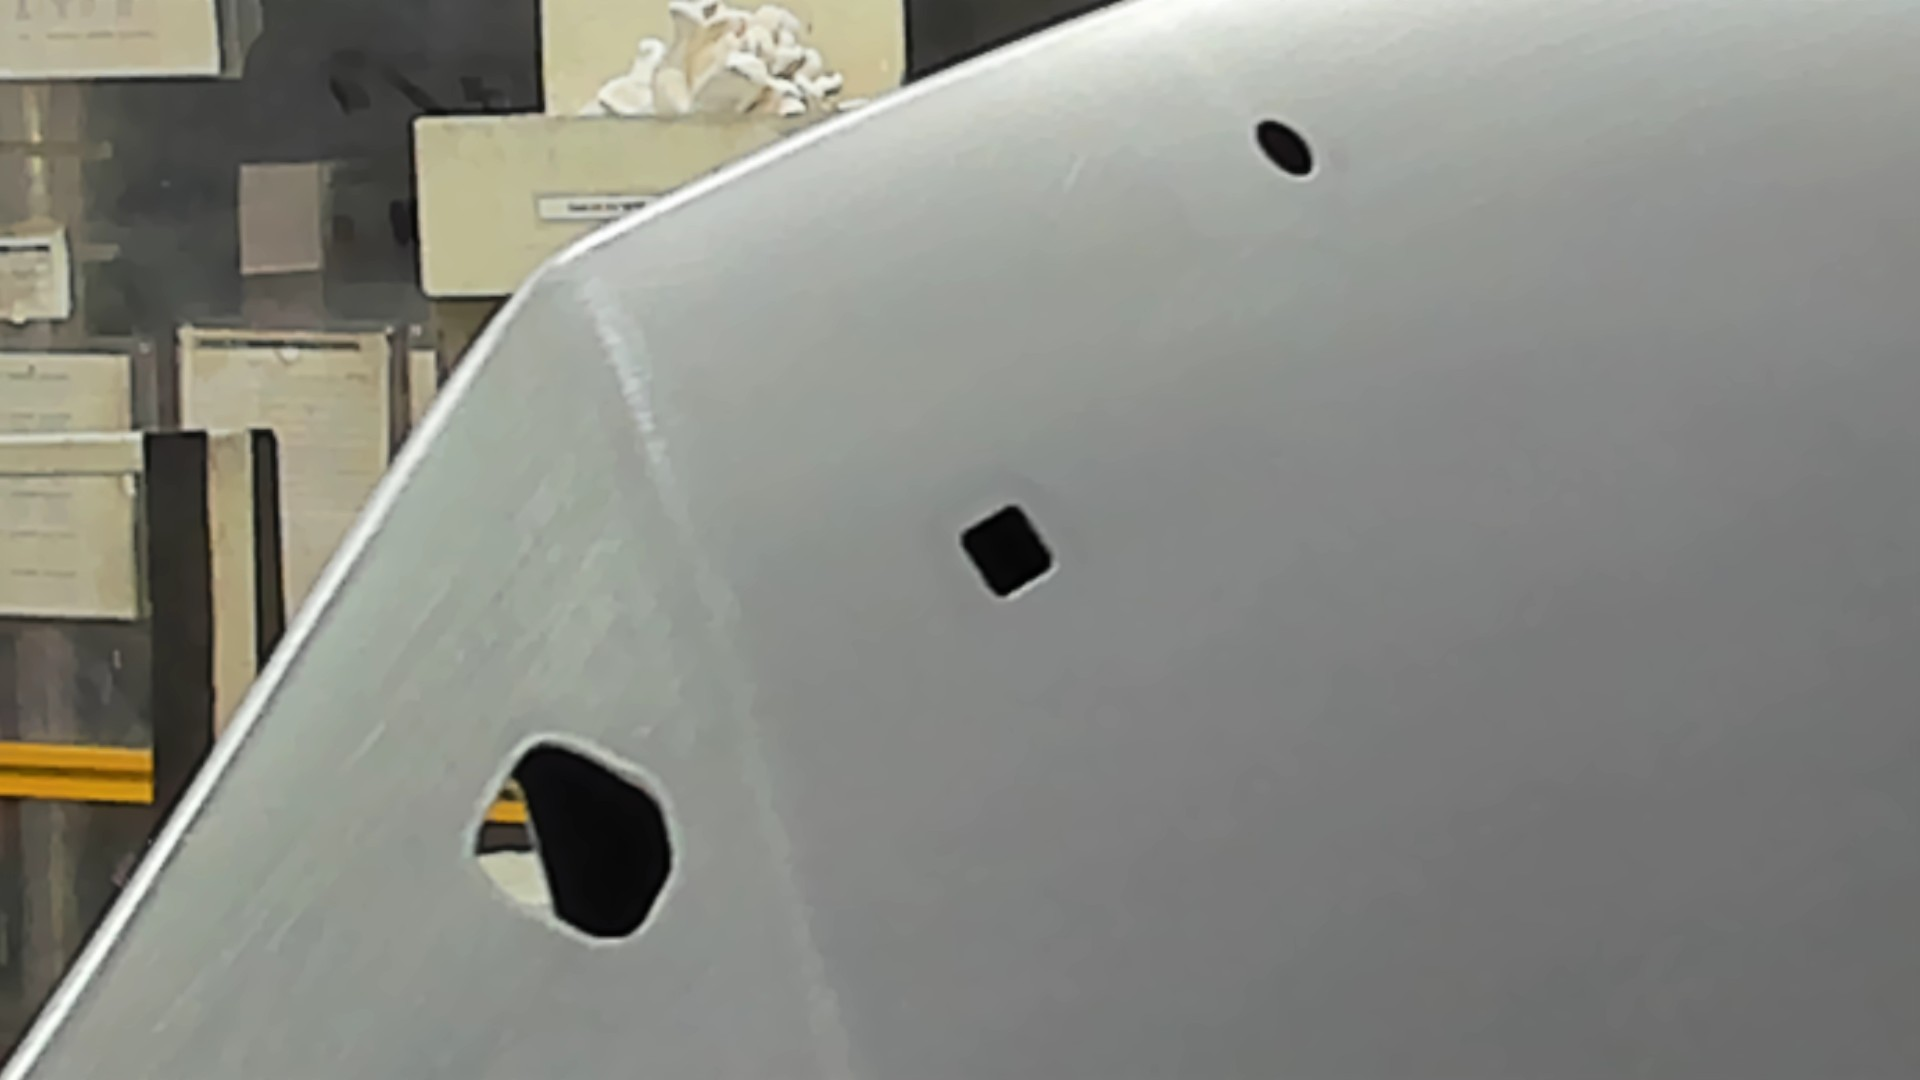chico: (1250, 113, 1323, 185)
grande: (460, 733, 682, 953)
mediano: (952, 498, 1062, 605)
